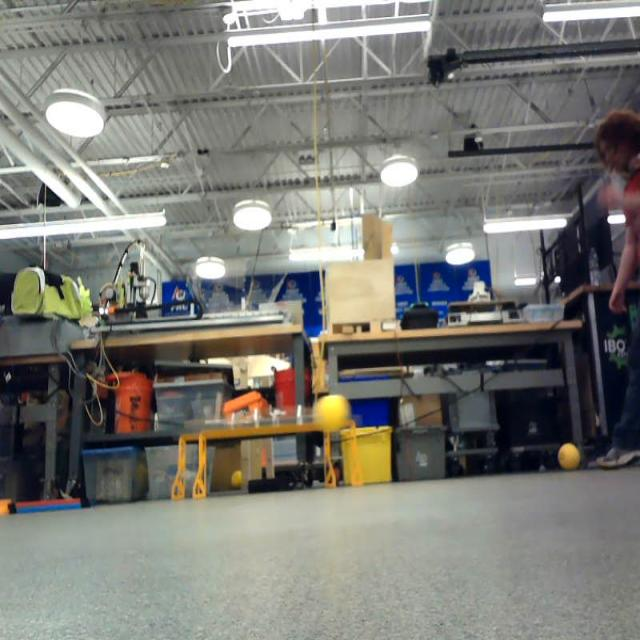Fuel: (321, 395, 344, 430), (558, 444, 580, 469), (232, 470, 245, 490)
